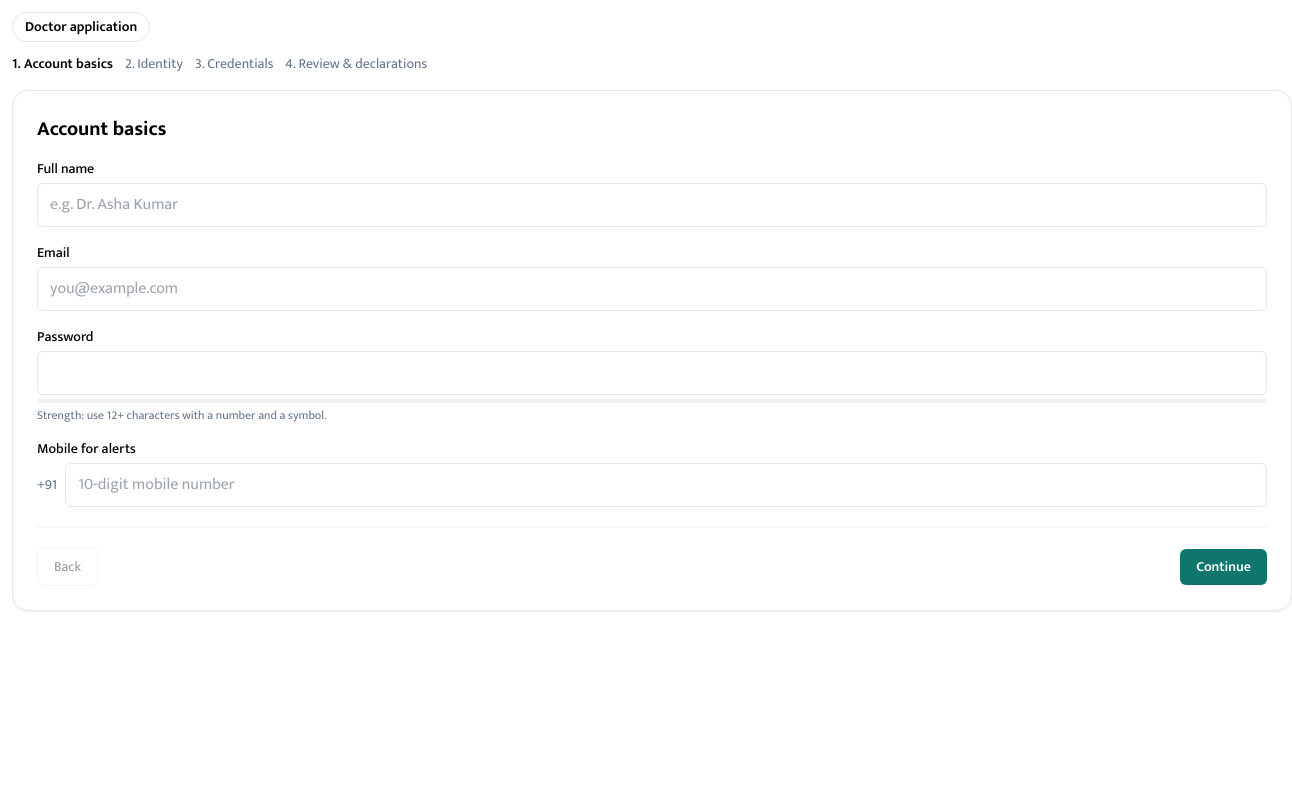
validation blocks progression with per-field messages › blocks an empty step 1 and renders each field's message plus summary
Click the button with test id "pr-next" at (1224, 567), box [1180,549,1267,585]
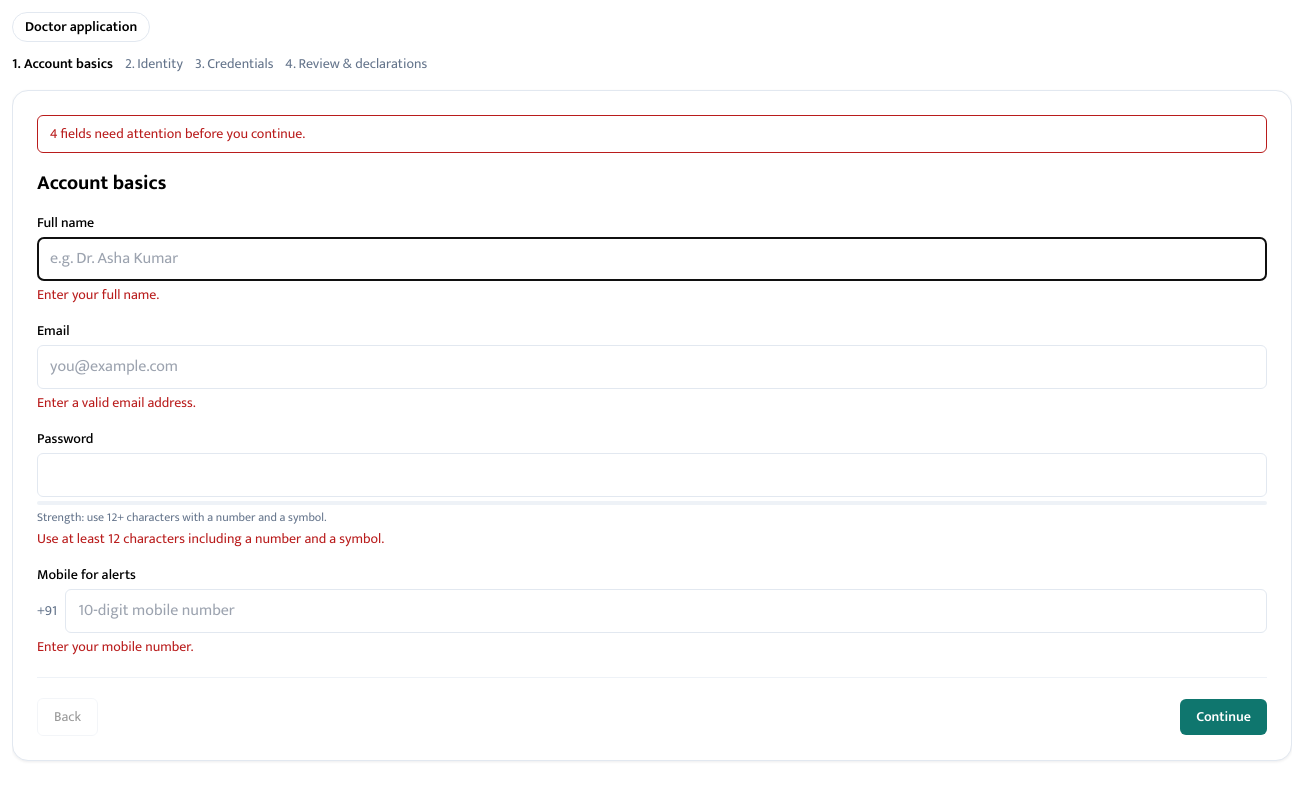
Expected: the text with test id "pr-fullname-error" reads "Enter your full name.", [37,283,159,306]
Expected: the text with test id "pr-email-error" reads "Enter a valid email address.", [37,391,196,414]
Expected: the text with test id "pr-password-error" reads "Use at least 12 characters including a number and a symbol.", [37,527,384,550]
